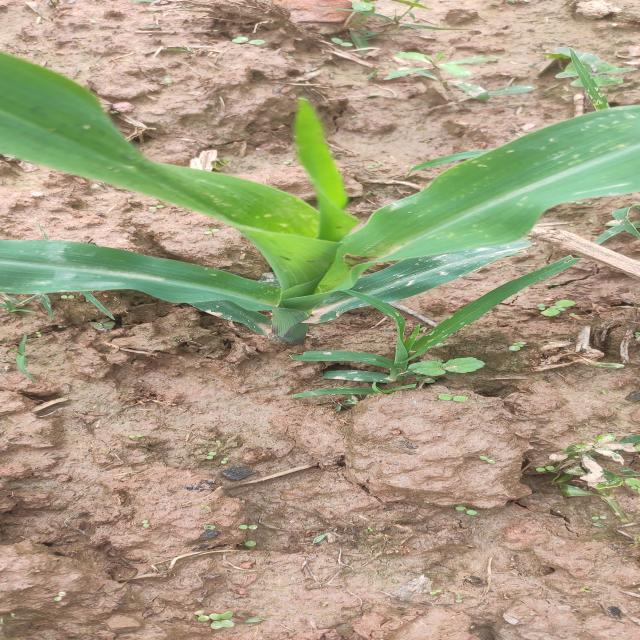maize: (0, 42, 640, 336)
weed: (366, 38, 528, 104), (538, 434, 640, 514), (339, 1, 491, 32), (398, 358, 503, 387), (170, 603, 264, 633), (215, 513, 271, 558)
